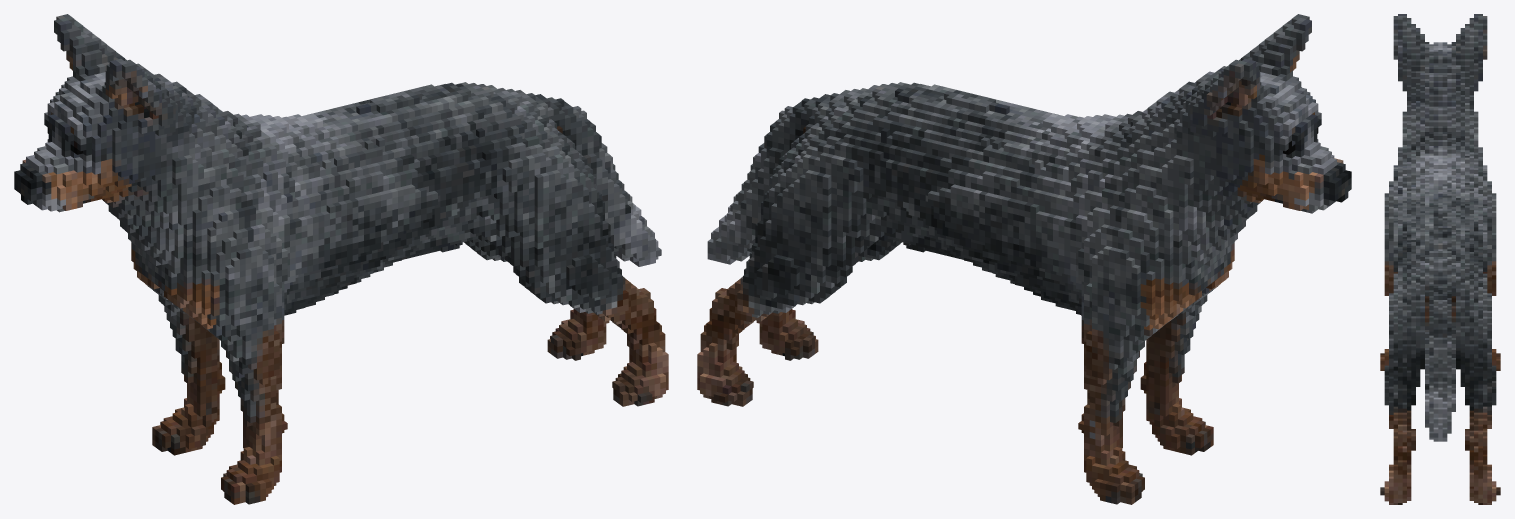
Rendered from Dog.obj.
3 renders of one model, left to right at view 1: azimuth 30°, elevation 25°; view 2: azimuth 150°, elevation 25°; view 3: azimuth 270°, elevation 25°, orthographic. The views are drawn at different scales.
Size of the model in its own units: 11.1 by 7.7 by 2.7.
1 material, 1 textured.
